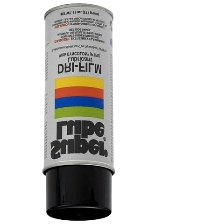aerosol_cans: (39, 1, 120, 221)
